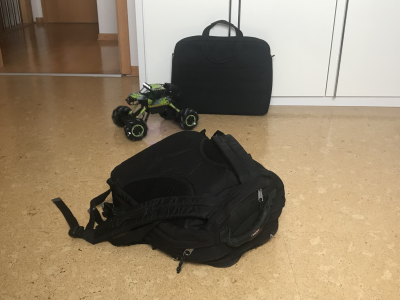remote control car: (110, 82, 199, 142)
